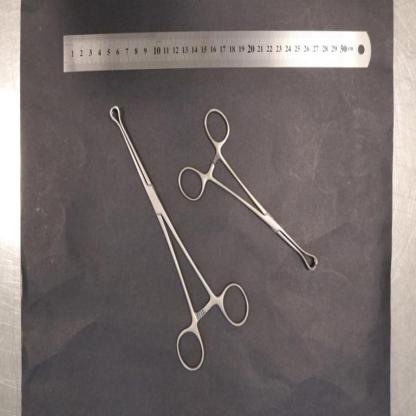8 Babcock Tissue Forceps: (110, 106, 251, 369)
Babcock Tissue Forceps: (176, 107, 317, 272)
